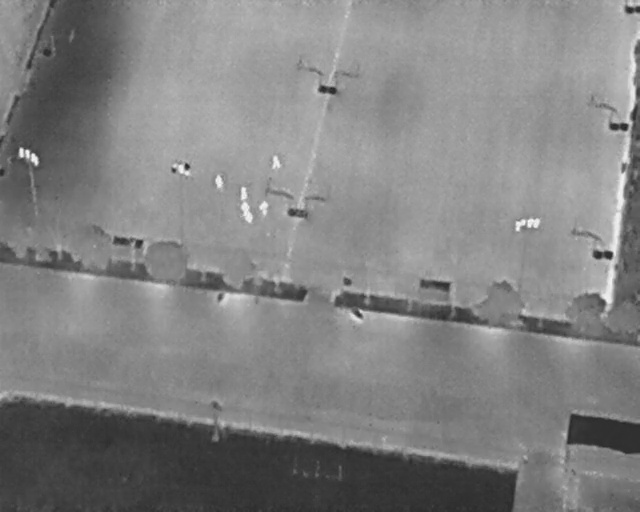Person: (214, 172, 224, 192), (259, 199, 268, 217), (272, 153, 281, 170), (241, 199, 250, 215), (244, 209, 254, 223), (240, 185, 248, 201)
